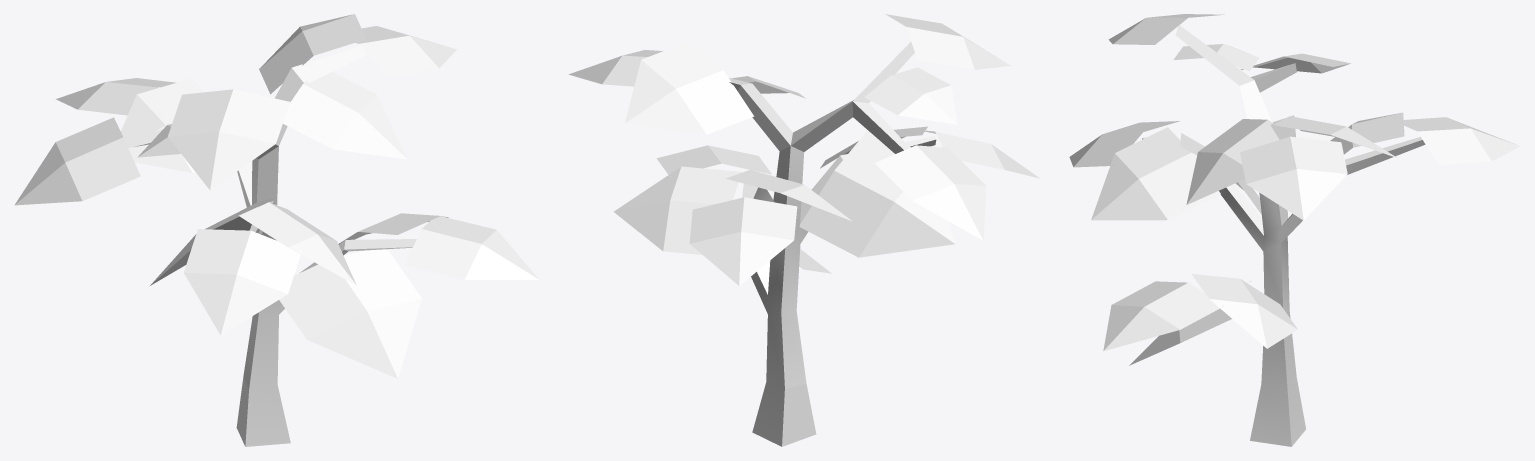
File: SM_Prop_Plant_Bush_03_L.glb
3 views of the same model, side by side, from view 1: azimuth 30°, elevation 25°; view 2: azimuth 150°, elevation 25°; view 3: azimuth 270°, elevation 25° (orthographic). The views are drawn at different scales.
Parts seen in each view (by area): view 1: SM_Prop_Plant_Bush_03_L; view 2: SM_Prop_Plant_Bush_03_L; view 3: SM_Prop_Plant_Bush_03_L.
Boxes of the visible parts, x1,y1,x2,y2 form: SM_Prop_Plant_Bush_03_L: (14, 14, 539, 446); SM_Prop_Plant_Bush_03_L: (568, 14, 1039, 446); SM_Prop_Plant_Bush_03_L: (1069, 14, 1520, 446).
Bounding box in the file's own units: 1.06 × 0.9345 × 1.
2 materials, 1 textured.
